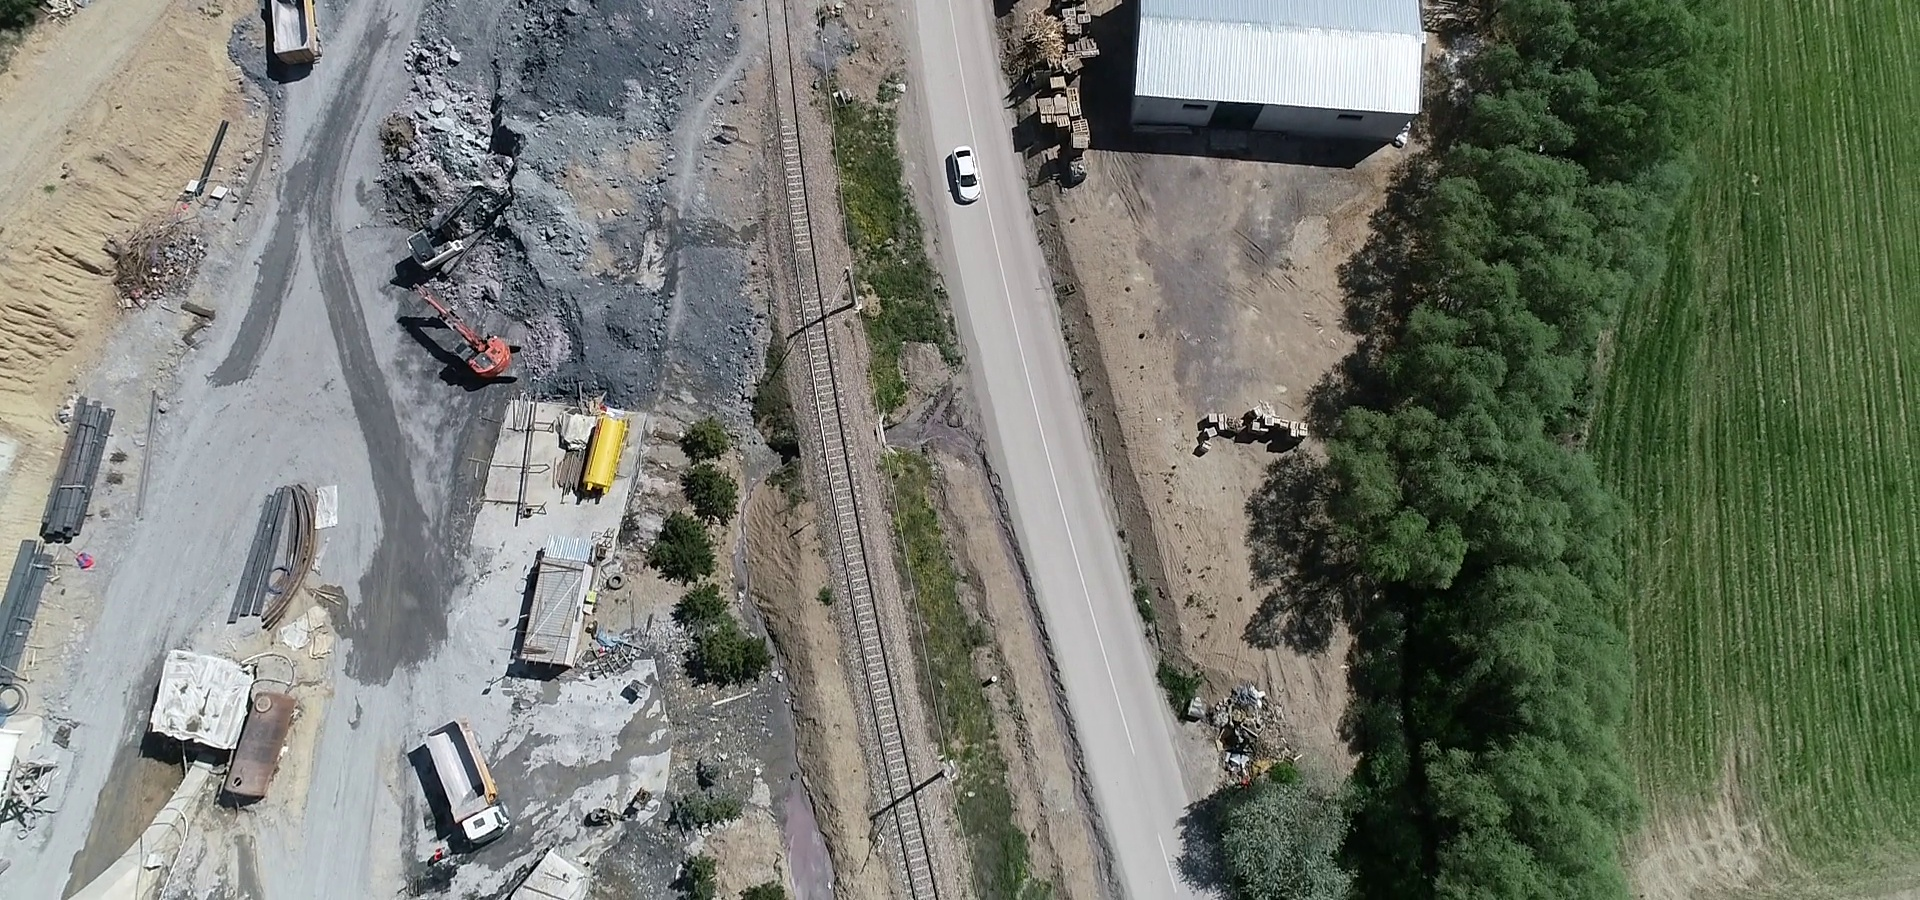araba: (939, 140, 994, 208)
ismakinesi: (398, 163, 524, 264), (410, 282, 516, 389)
kamyon: (411, 700, 516, 856), (262, 1, 326, 87)
